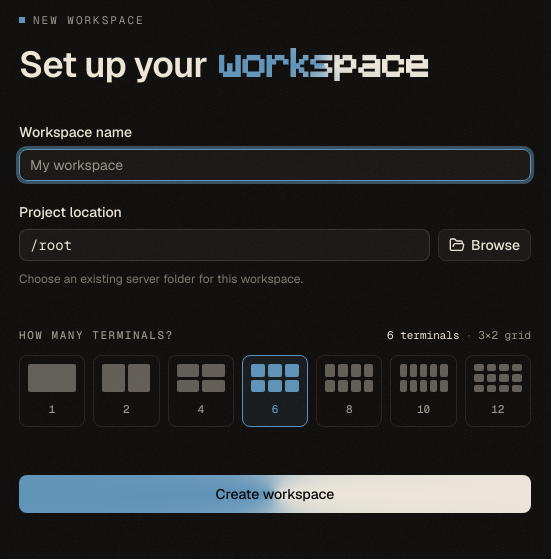
Test: WorkspaceSetup › shows inline validation instead of the browser required tooltip
This screenshot has width=551, height=559.
What coordinates should you click on to do the following:
click the button "Create workspace"
I would click on:
 (275, 494)
Its box is [19,475,531,513].
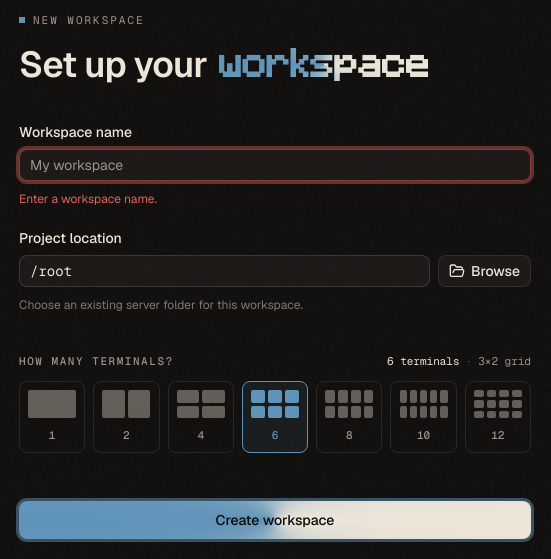
Check: the text "Enter a workspace name." is shown, box [19,190,157,206]
